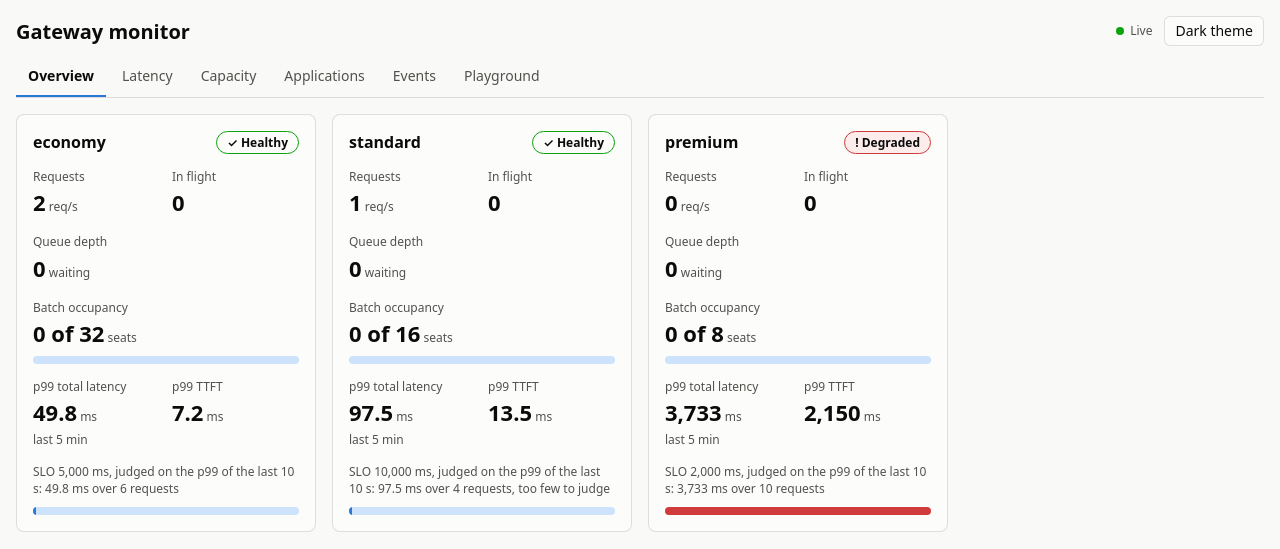
Scenario: Events tab › filters by type and application
The image size is (1280, 549).
Click the tab "Events": (414, 77) [381,58,448,97]
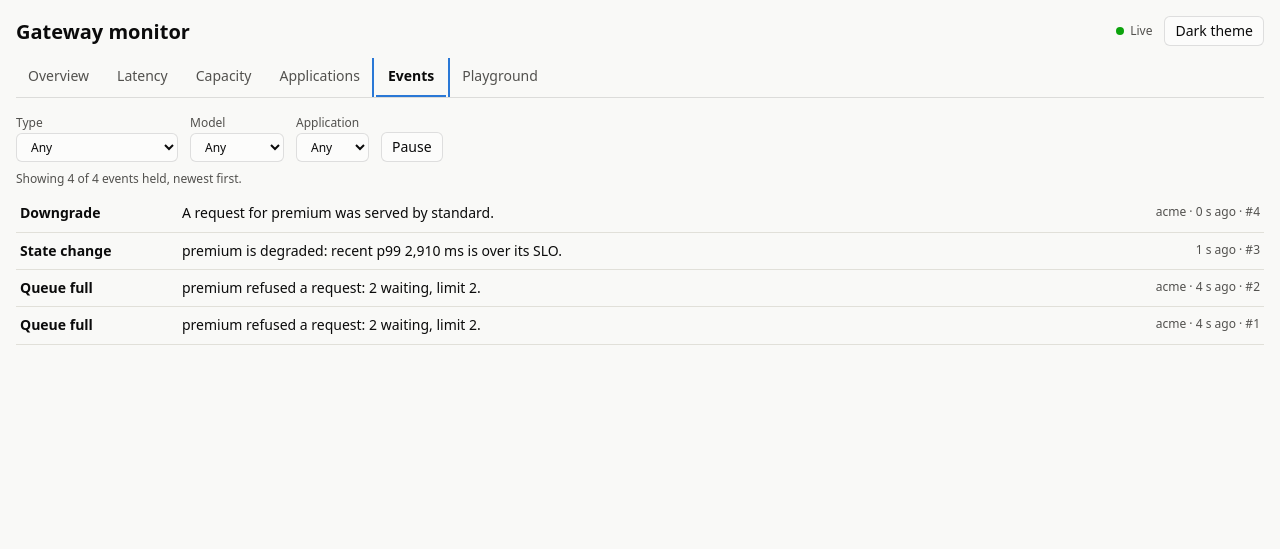
Select "Queue full" in the dropdown labelled "Type": (97, 148) [16,133,178,162]
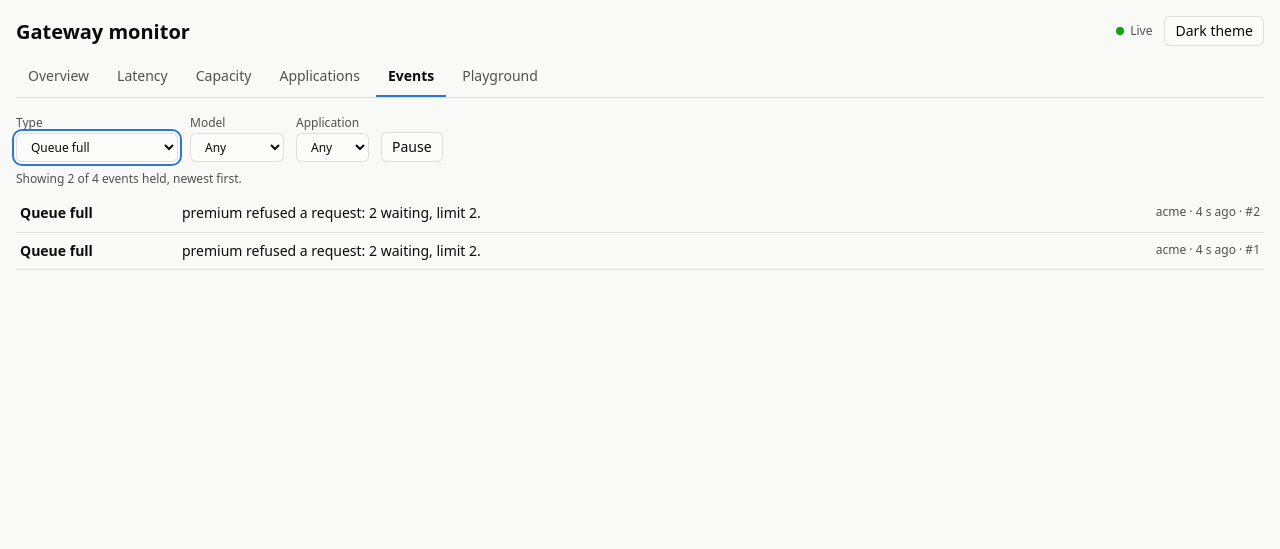
Expected: the number of list items is 2, [16,195,1264,233]; [16,233,1264,270]
Expected: the text "Showing 2 of 4 events held, newest first." is shown, [16,170,242,187]
Select "State change" in the dropdown labelled "Type": (97, 148) [16,133,178,162]
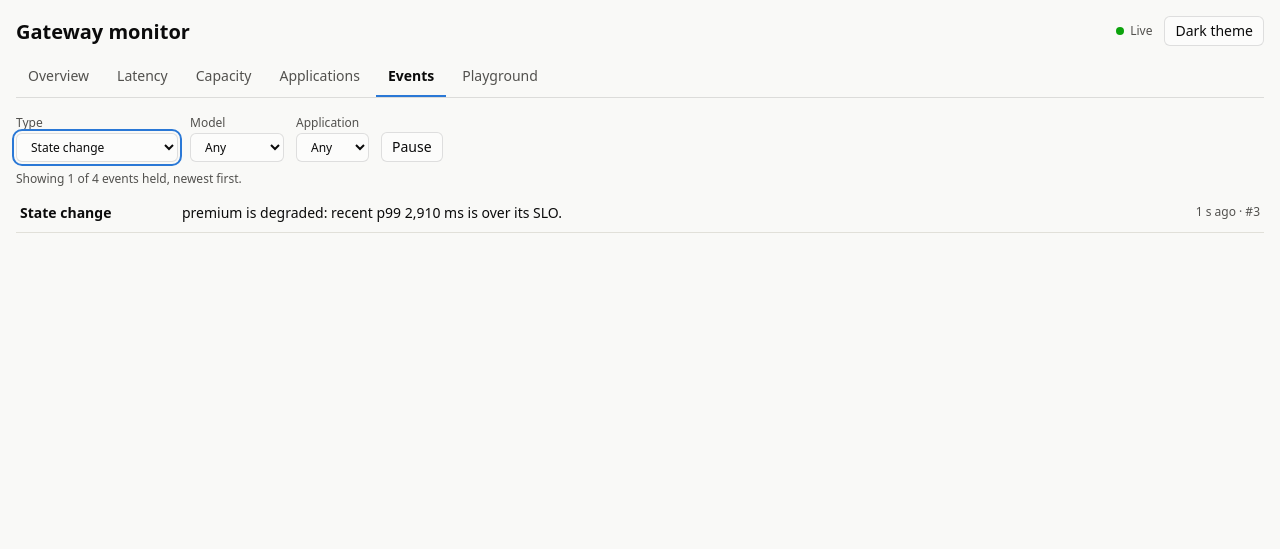
Select "acme" in the dropdown labelled "Application": (332, 148) [296,133,369,162]
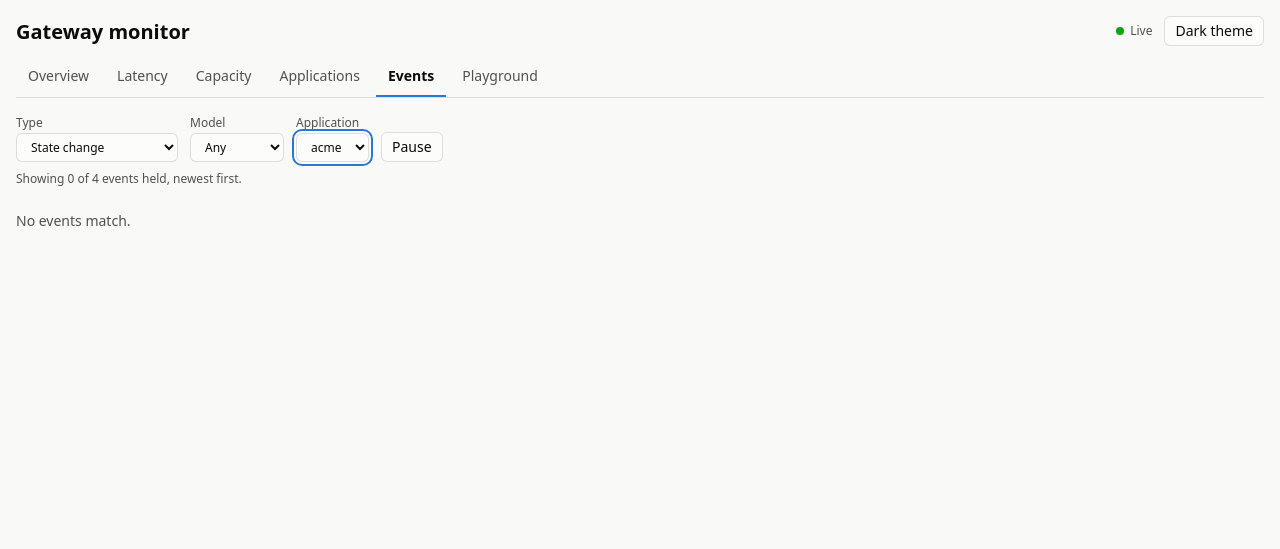
Expected: the text "No events match." is shown, [16,211,131,230]
Select "Any" in the dropdown labelled "Type": (97, 148) [16,133,178,162]
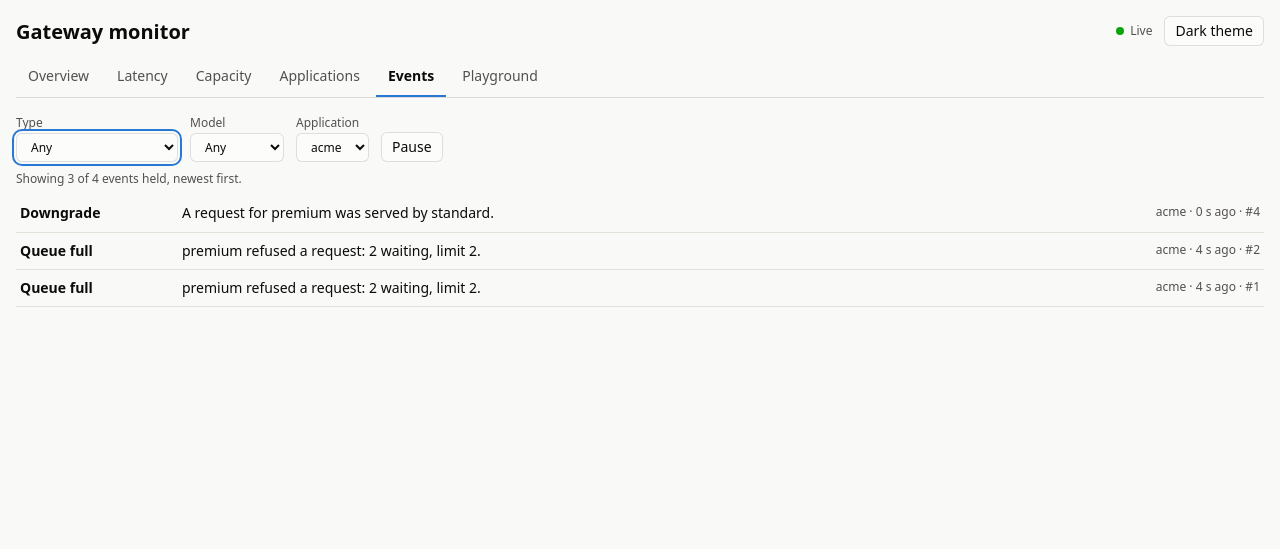
Expected: the number of list items is 3, [16,195,1264,233]; [16,233,1264,270]; [16,270,1264,307]
